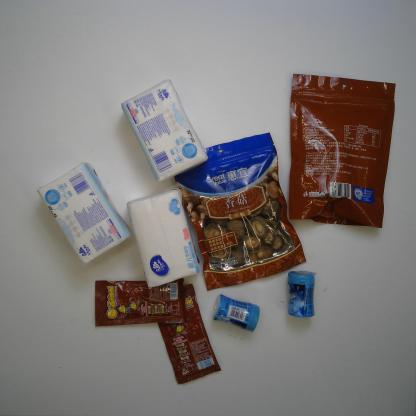Candy: (156, 282, 222, 385), (93, 279, 187, 328)
Dried Food: (173, 131, 309, 292), (287, 72, 396, 229)
Gum: (210, 292, 261, 334), (286, 270, 316, 318)
Tissue: (35, 161, 132, 266), (119, 79, 210, 183), (126, 187, 202, 289)
